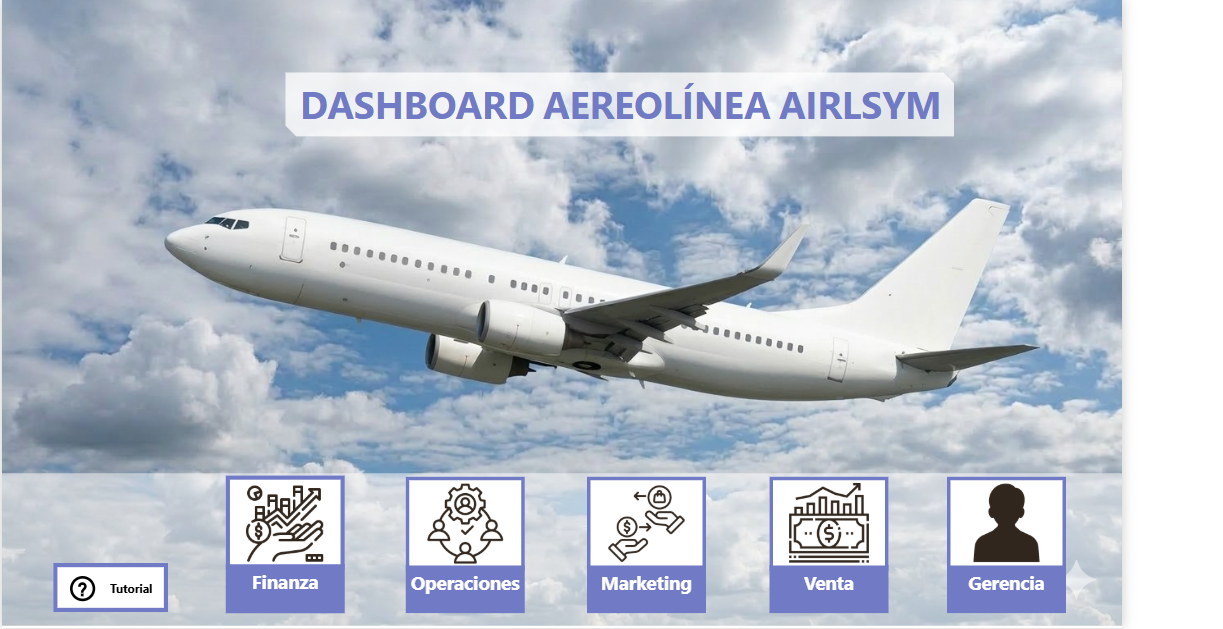

Layout of this report page (visuals, bound fields, positions):
{"tool":"powerbi","page":{"name":"Inicio","canvas":[1280,714],"ordinal":0},"visuals":[{"type":"textbox","box":[58.6,645.7,131.4,55.7],"z":0},{"type":"actionButton","box":[72.9,655.7,102.9,38.6],"z":18000},{"type":"textbox","box":[255.7,545.7,135.7,107.1],"z":19000},{"type":"textbox","box":[255.7,647.1,135.7,55.7],"z":20000},{"type":"textbox","box":[461.4,547.1,135.7,107.1],"z":22000},{"type":"textbox","box":[668.6,547.1,135.7,107.1],"z":23000},{"type":"textbox","box":[877.1,547.1,135.7,107.1],"z":24000},{"type":"textbox","box":[1080,547.1,135.7,107.1],"z":25000},{"type":"textbox","box":[877.1,648.6,135.7,54.3],"z":26000},{"type":"textbox","box":[461.4,648.6,135.7,54.3],"z":27000},{"type":"textbox","box":[668.6,648.6,135.7,54.3],"z":28000},{"type":"textbox","box":[1080,648.6,135.7,54.3],"z":29000},{"type":"image","box":[255.7,554.3,135.7,92.9],"z":33500},{"type":"image","box":[1080,554.3,135.7,91.4],"z":34000},{"type":"image","box":[461.4,554.3,135.7,92.9],"z":35000},{"type":"image","box":[668.6,554.3,135.7,92.9],"z":36000},{"type":"image","box":[877.1,554.3,135.7,91],"z":37000}]}

Visuals, with their boxes in screenshot pixels (x1, y1, x2, y2):
textbox: (57,556,171,605)
actionButton: (70,565,159,599)
textbox: (228,470,346,563)
textbox: (228,558,346,606)
textbox: (406,471,524,564)
textbox: (586,471,703,564)
textbox: (766,471,884,564)
textbox: (942,471,1060,564)
textbox: (766,559,884,606)
textbox: (406,559,524,606)
textbox: (586,559,703,606)
textbox: (942,559,1060,606)
image: (228,477,346,558)
image: (942,477,1060,556)
image: (406,477,524,558)
image: (586,477,703,558)
image: (766,477,884,556)
